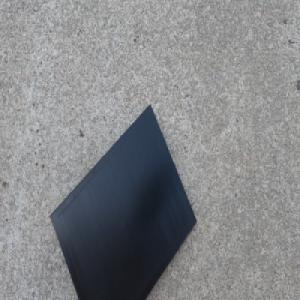PlasticPart: (51, 101, 199, 300)
